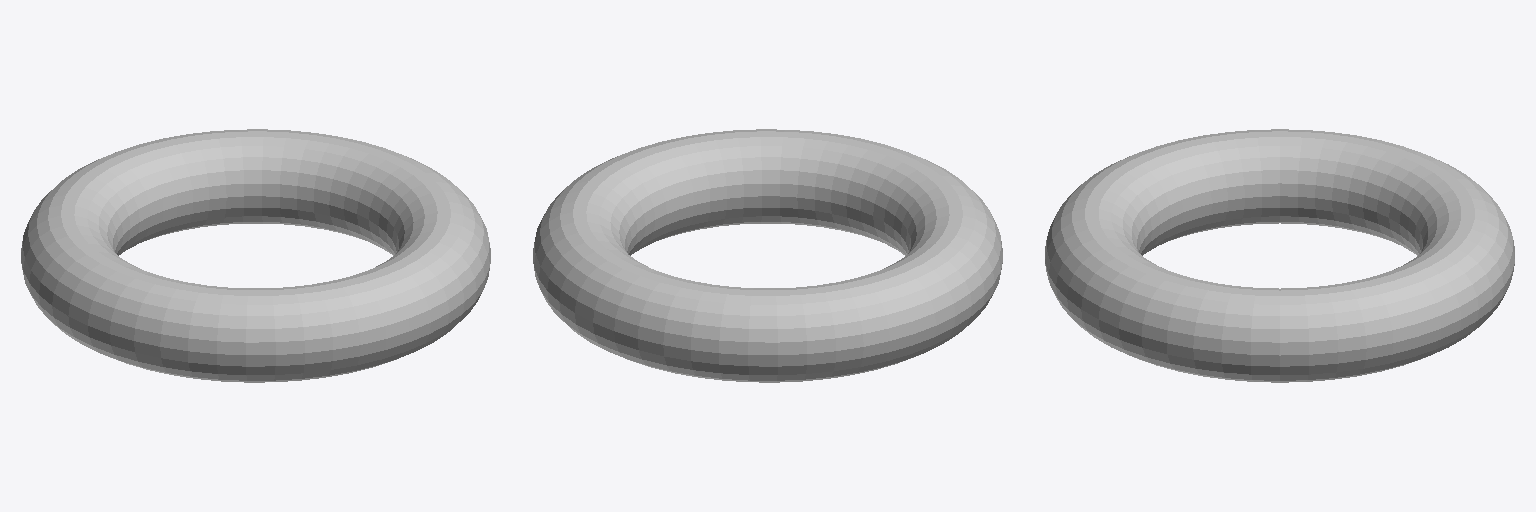
File: rosquinha_2.obj
The picture shows the model from 3 angles: view 1: azimuth 30°, elevation 25°; view 2: azimuth 150°, elevation 25°; view 3: azimuth 270°, elevation 25°; orthographic projection.
Parts seen in each view (by area): view 1: rosquinha_2; view 2: rosquinha_2; view 3: rosquinha_2.
Part boxes in pixels (left/top/right/bottom): rosquinha_2: left=21, top=129, right=490, bottom=382; rosquinha_2: left=533, top=129, right=1002, bottom=382; rosquinha_2: left=1045, top=129, right=1514, bottom=382.
Bounding box in the file's own units: 2.5 × 0.4949 × 2.5.